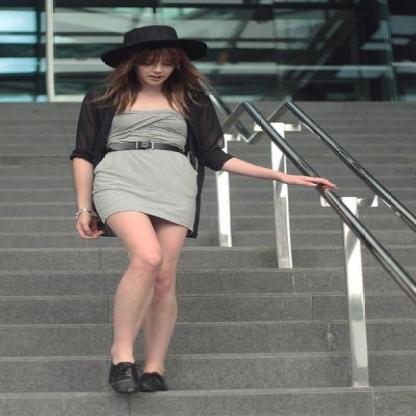dress: (88, 100, 197, 236)
hat: (94, 25, 207, 67)
jacket: (69, 84, 248, 245)
shoe: (109, 362, 161, 400)
